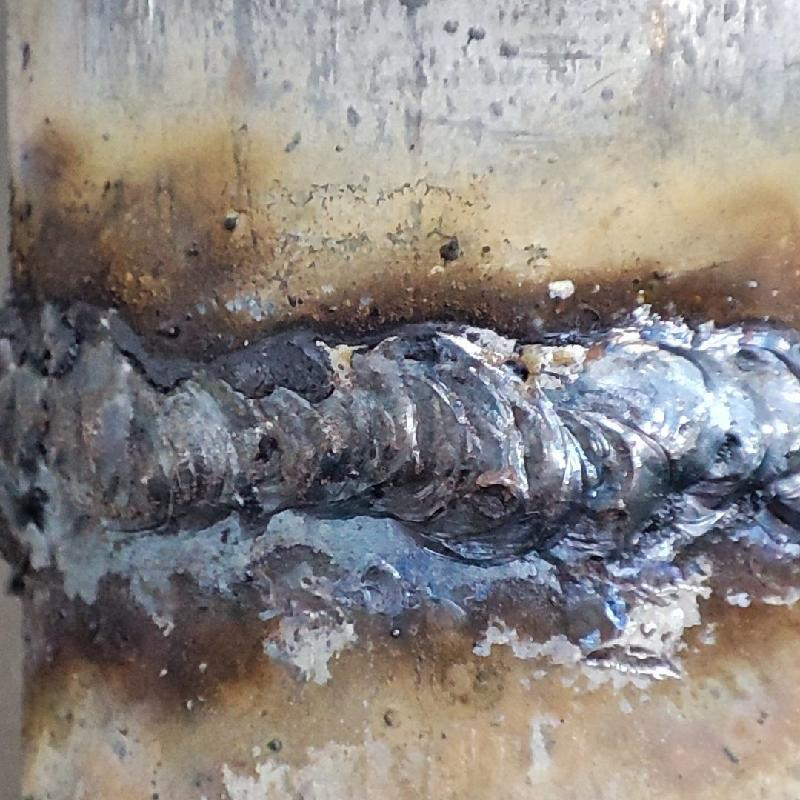Surface_pores: (230, 419, 296, 474)
good: (6, 305, 799, 561)
